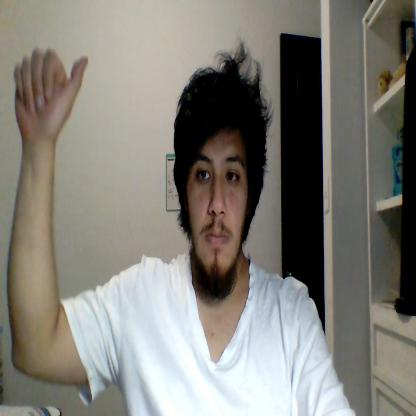A: (14, 48, 88, 140)
